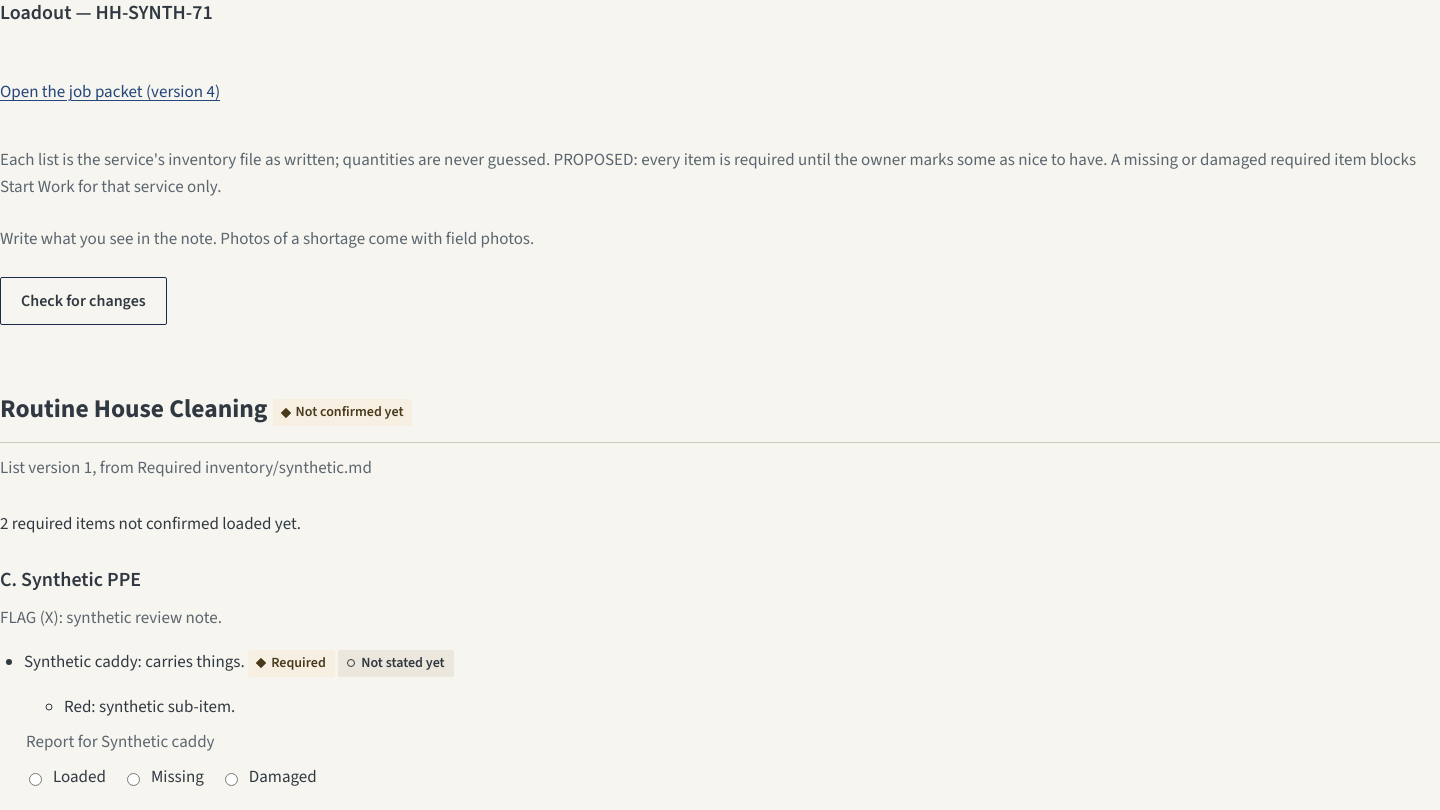
Scenario: the job loadout (TSK-0071, HH-PKT-05) › [HH-PKT-05][HH-PKT-06] a worker states missing with a note; the server answers the block
Click the radio button labelled "Loaded": (36, 780) [29,773,42,786]
(page scrolled)
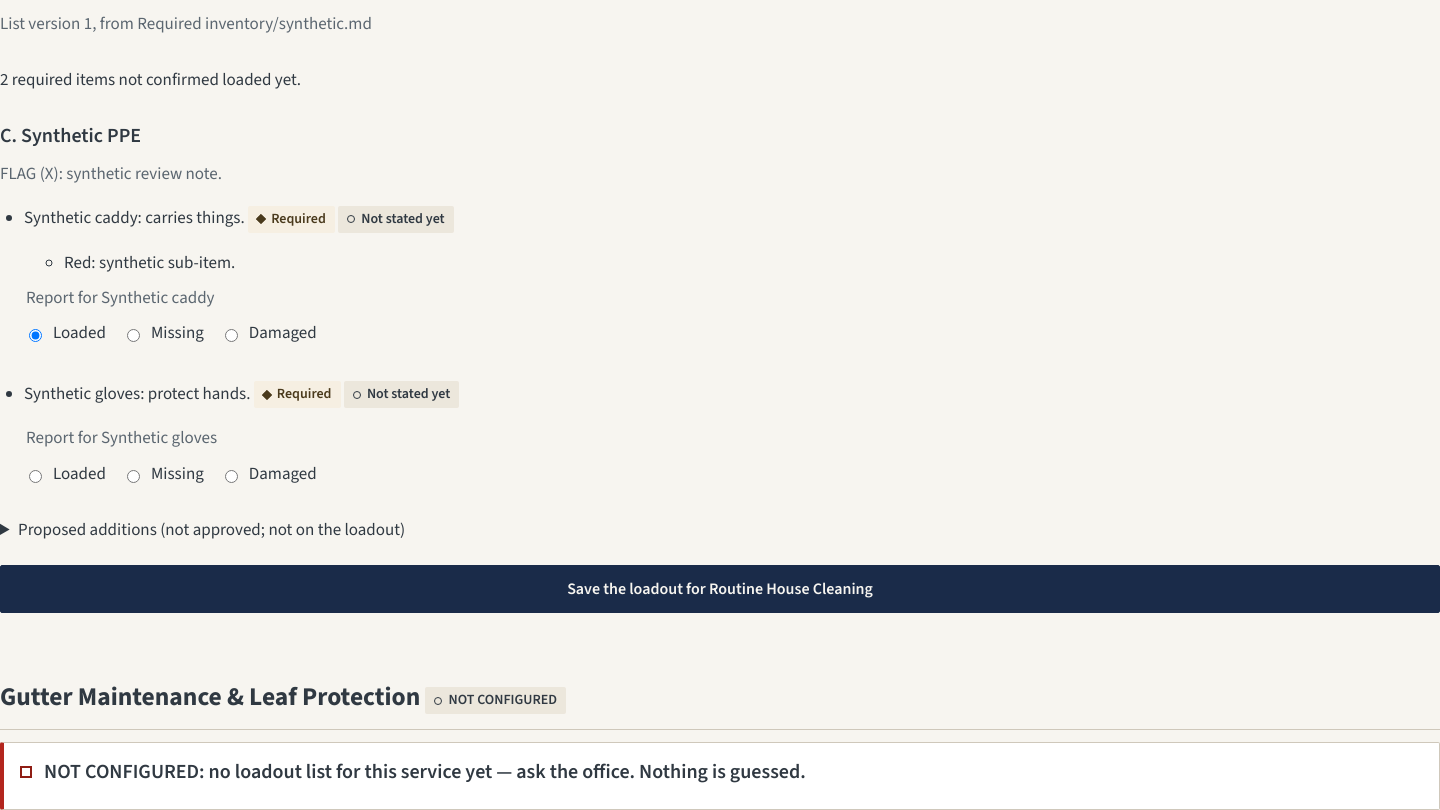
Click the radio button labelled "Missing" below "Report for Synthetic gloves": (133, 476) [127,470,140,483]
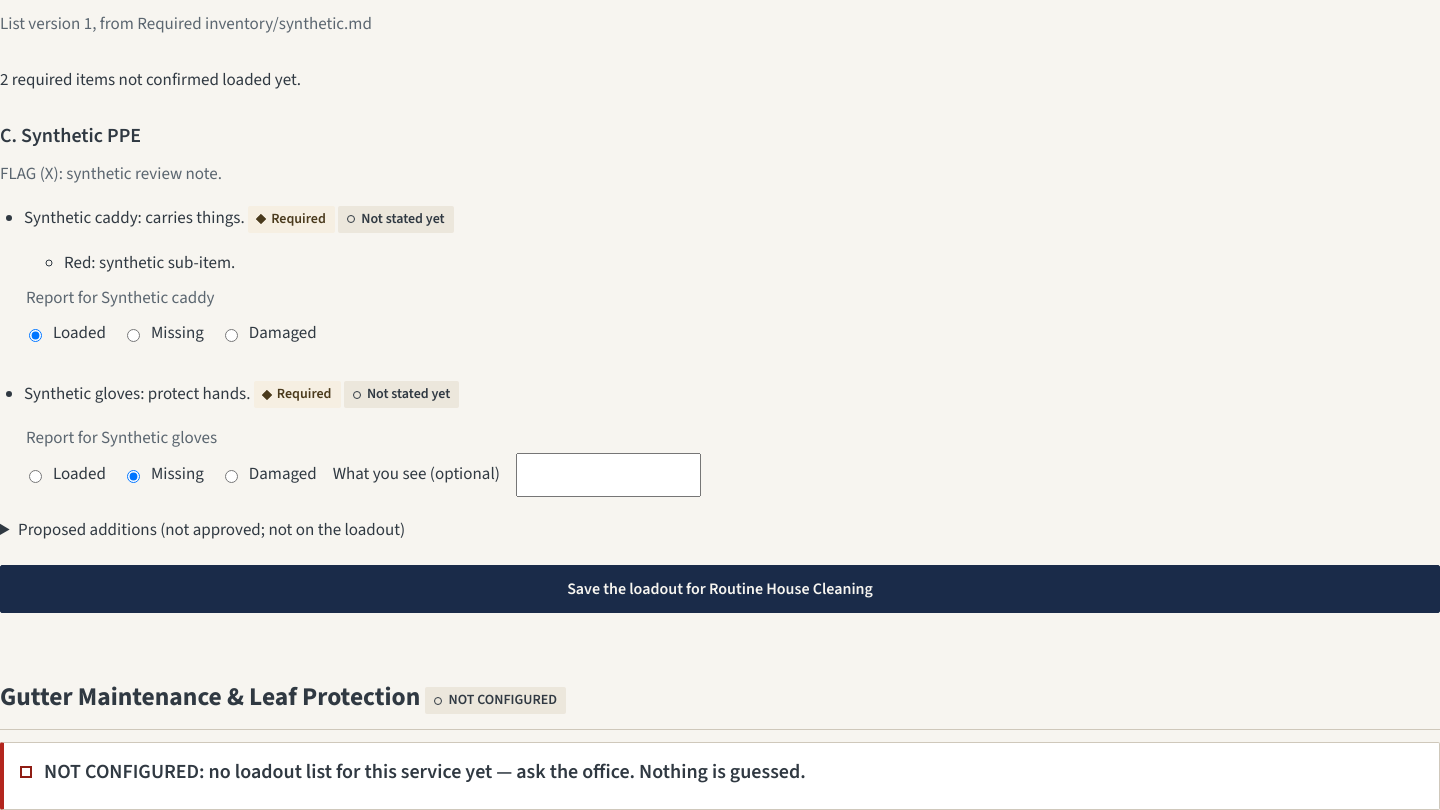
In the field labelled "What you see (optional)": (608, 475) [516,453,701,497], type "the box is empty"
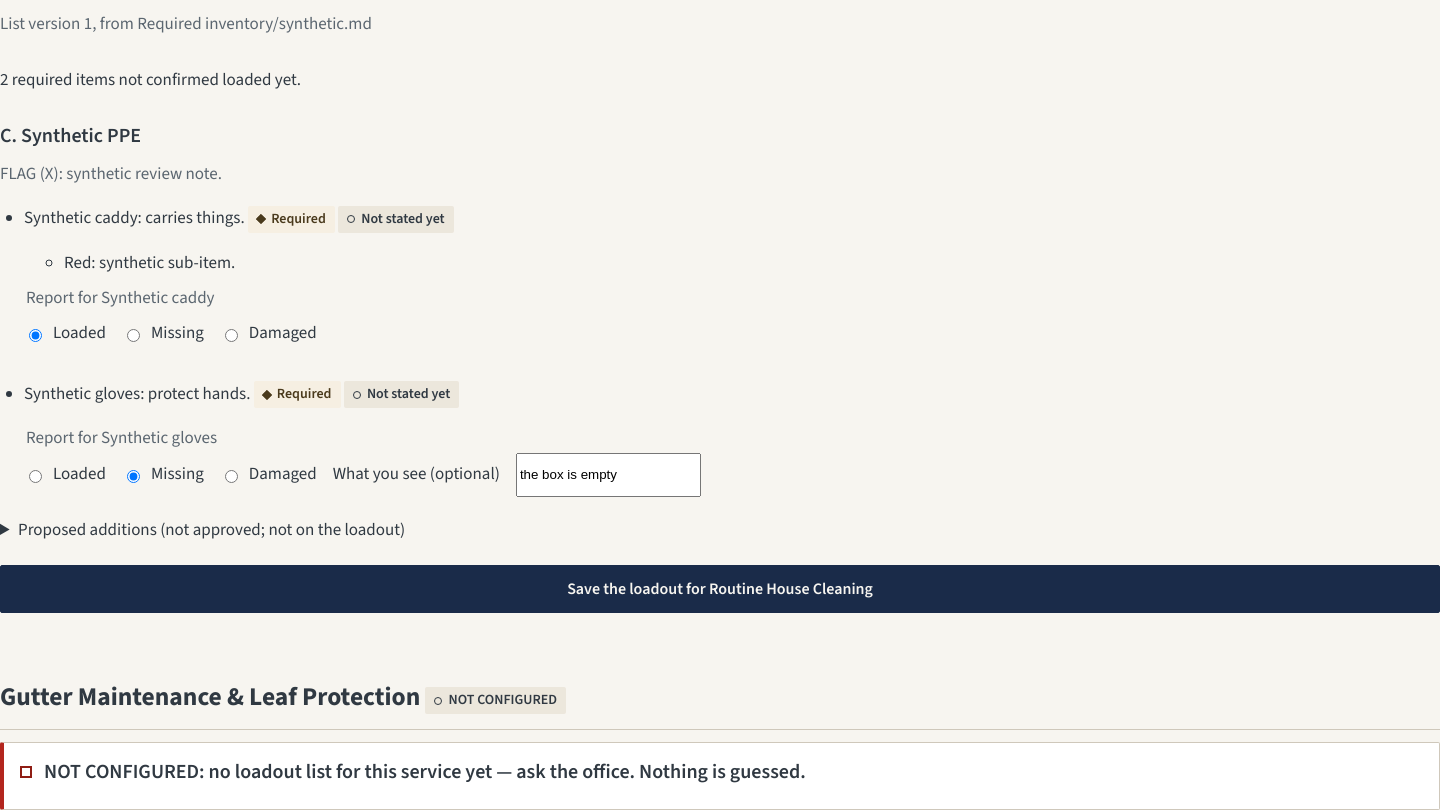
Click the button "Save the loadout for Routine House Cleaning": (720, 589) [0,565,1439,613]
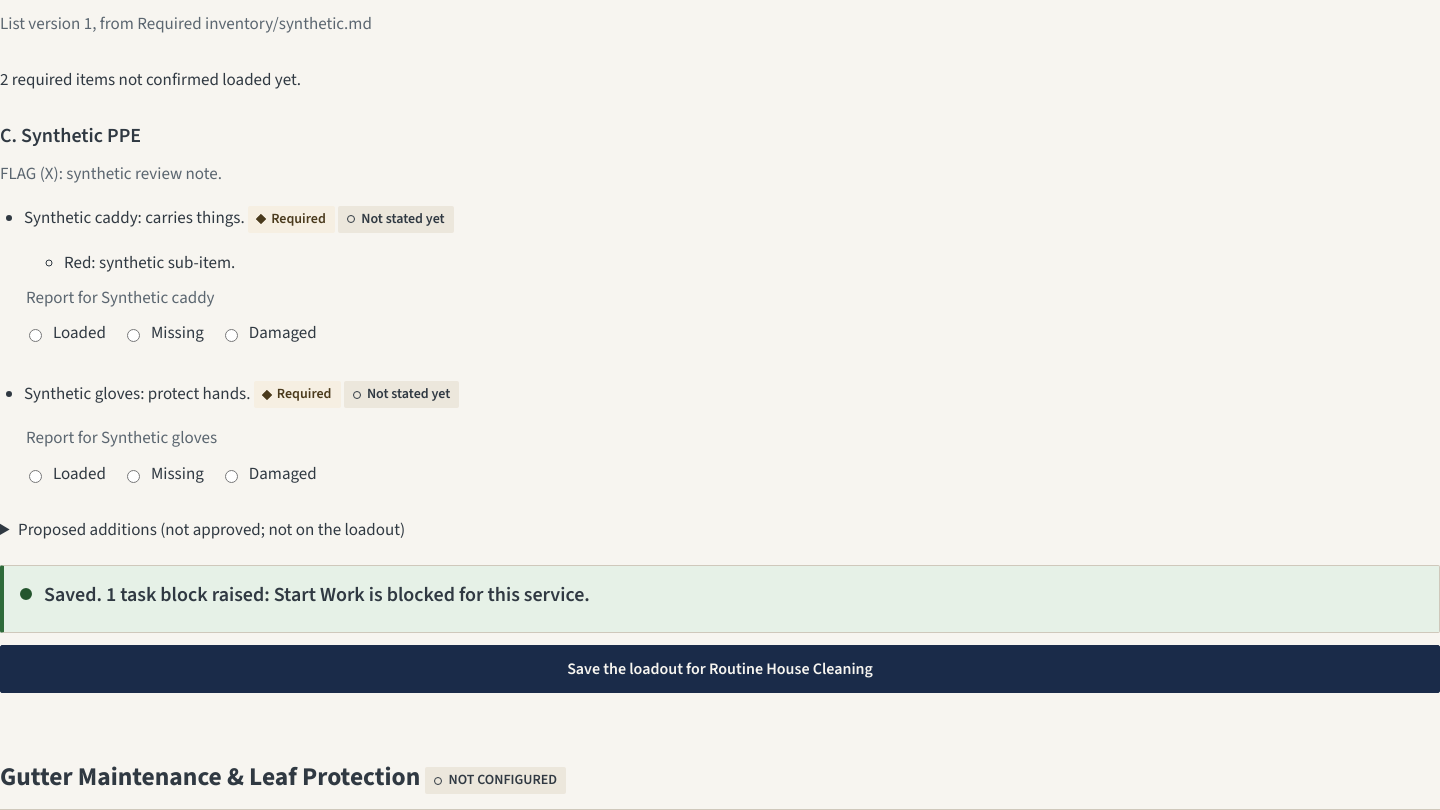
Check: the text "Saved. 1 task block raised: Start Work is blocked for this service." is shown, box [44,581,590,609]
